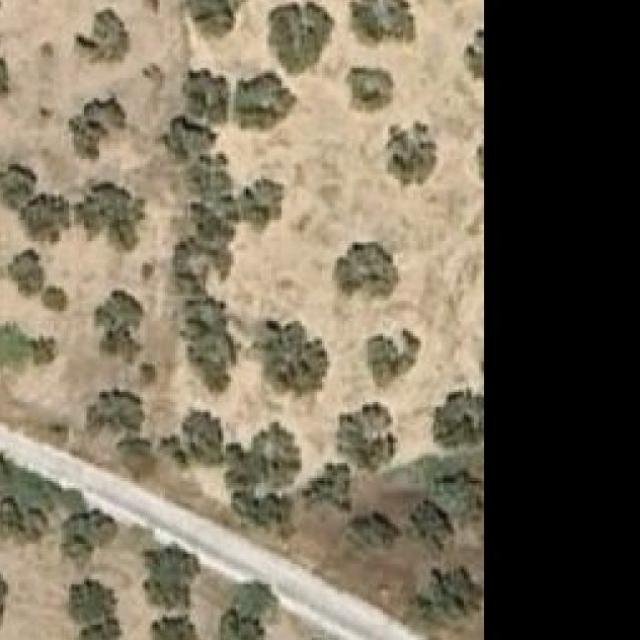Tree: (261, 318, 327, 397), (74, 182, 140, 248), (69, 91, 127, 162), (248, 420, 308, 488), (157, 409, 226, 468), (268, 4, 327, 73), (411, 567, 482, 623), (94, 290, 145, 364), (142, 546, 200, 610), (335, 243, 401, 299), (337, 405, 393, 471), (386, 121, 439, 188), (221, 581, 278, 640), (236, 73, 295, 129), (56, 508, 118, 559), (368, 331, 421, 390), (351, 0, 416, 48), (77, 10, 131, 64), (182, 68, 231, 126), (436, 390, 482, 451), (86, 390, 145, 435), (187, 0, 253, 39), (0, 324, 54, 368), (408, 498, 454, 547), (67, 579, 117, 620), (241, 179, 285, 225), (8, 250, 44, 299), (347, 66, 391, 106), (352, 513, 393, 549), (28, 197, 62, 238), (152, 614, 203, 640), (312, 471, 345, 506), (0, 164, 30, 199), (84, 619, 122, 640), (43, 288, 67, 309)
